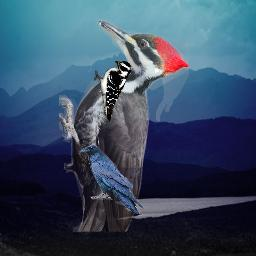Crow: (79, 144, 144, 214)
Woodpecker: (59, 17, 189, 232), (94, 61, 132, 124)
